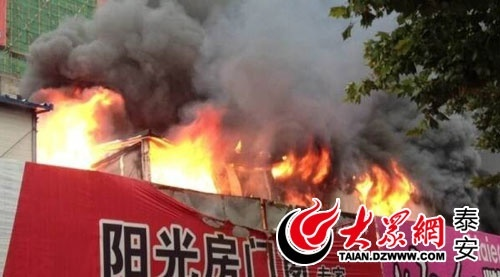fire: (35, 87, 121, 169), (148, 124, 226, 192), (354, 160, 415, 212), (269, 142, 333, 184)
